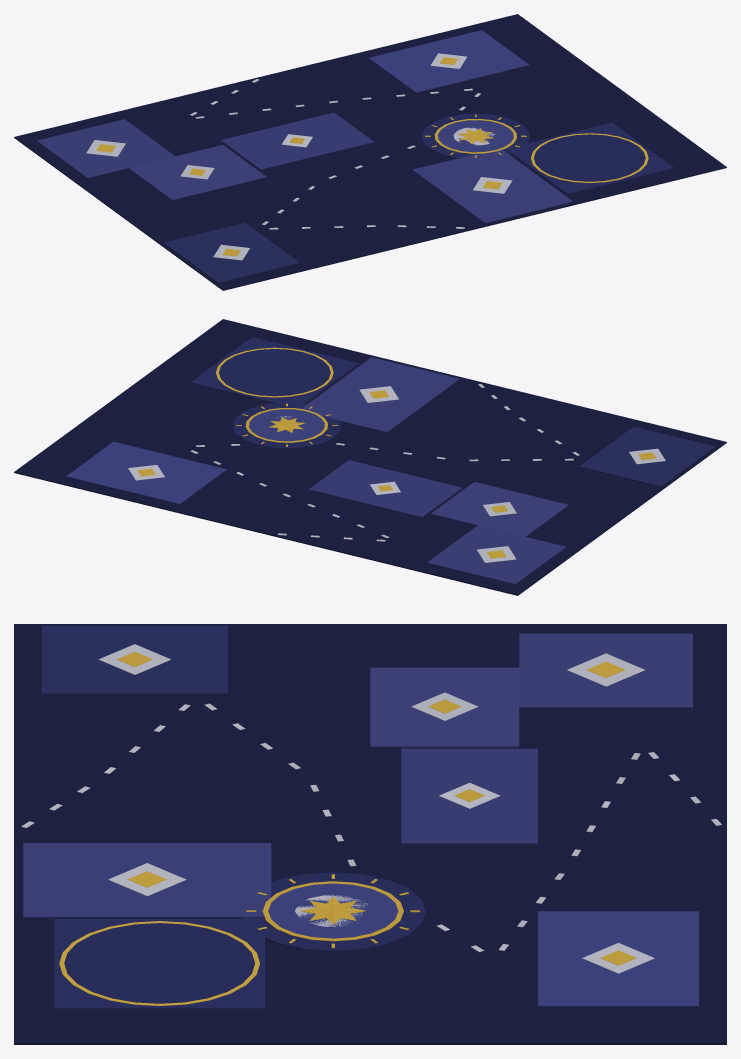
The model's file is Decor_ClockTower_Ground.fbx.
The picture shows the model from 3 angles, top to bottom: view 1: azimuth 30°, elevation 25°; view 2: azimuth 150°, elevation 25°; view 3: azimuth 270°, elevation 25°; orthographic projection. The views are drawn at different scales.
Visible parts, largest first — view 1: Ground_Body; view 2: Ground_Body; view 3: Ground_Body.
Boxes of the visible parts, bbox=[...] form: Ground_Body: bbox=[14, 14, 726, 290]; Ground_Body: bbox=[14, 319, 726, 595]; Ground_Body: bbox=[14, 624, 726, 1044].
Size of the model in its own units: 160 by 0.55 by 115.
